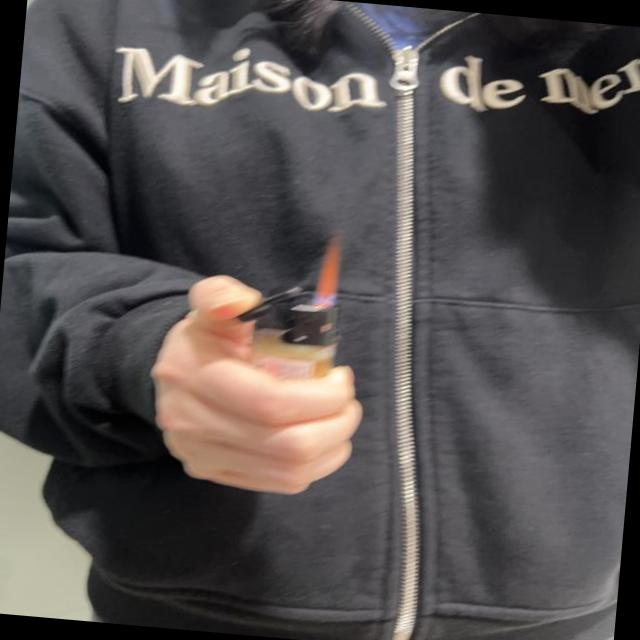Fire: (308, 230, 346, 308)
